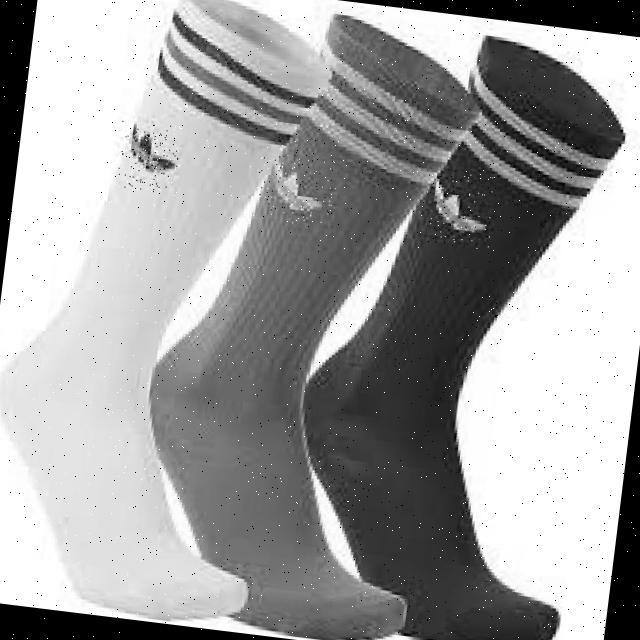Adidas: (417, 166, 497, 251), (252, 151, 339, 228), (114, 120, 182, 195)
